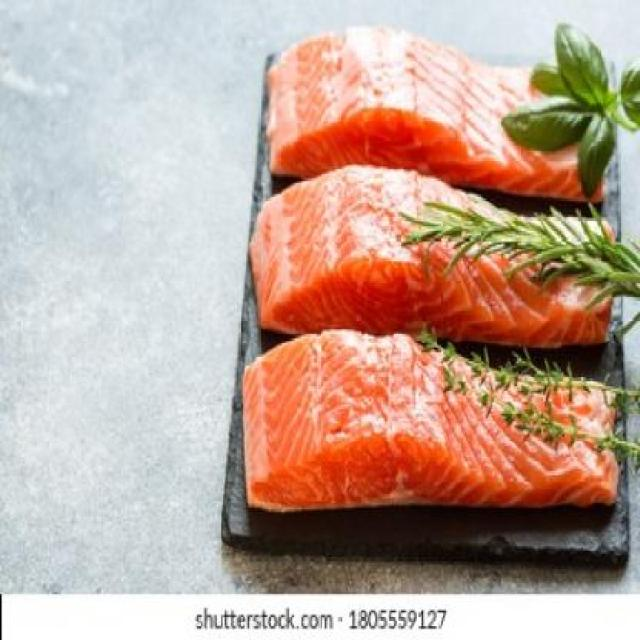salmon: (221, 334, 640, 544), (243, 160, 627, 370), (252, 8, 610, 213)
